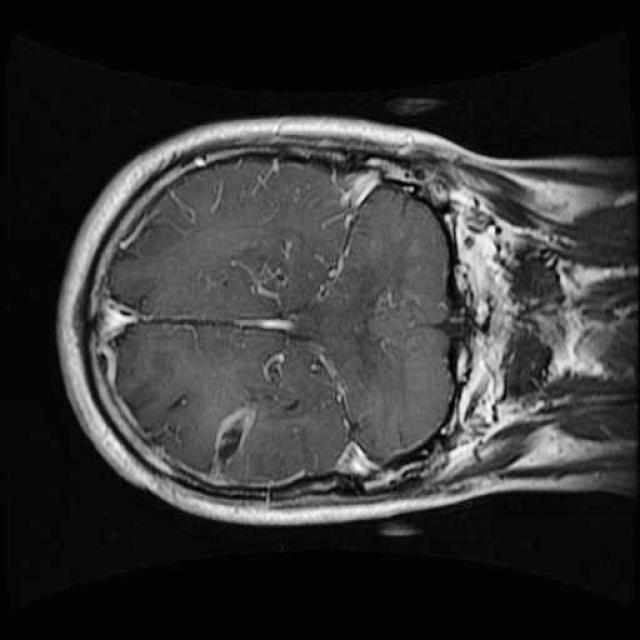Tumor: (192, 392, 277, 489)
